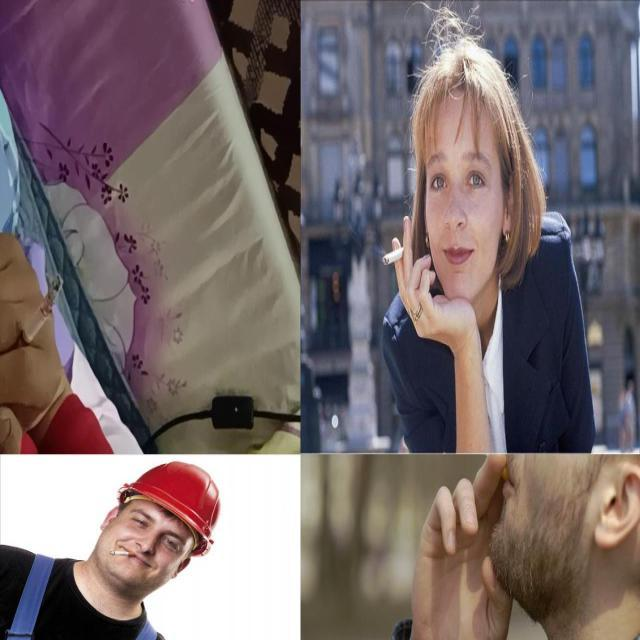smoking: (12, 272, 64, 358), (448, 454, 514, 489), (382, 247, 404, 267), (107, 548, 135, 560)
